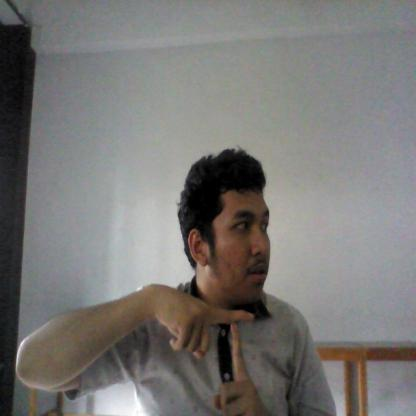T: (156, 280, 256, 416)
